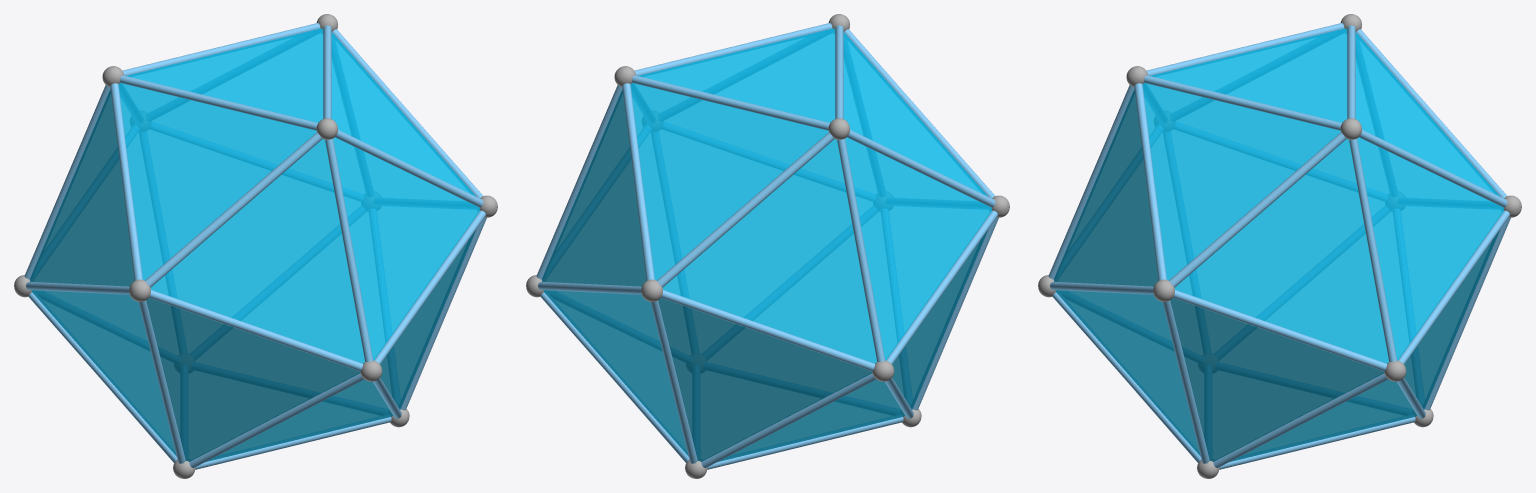
Rendered from icosahedron.glb.
The picture shows the model from 3 angles, left to right: view 1: azimuth 30°, elevation 25°; view 2: azimuth 150°, elevation 25°; view 3: azimuth 270°, elevation 25°; orthographic projection.
Bounding box in the file's own units: 7.69 × 7.2 × 8.8.
